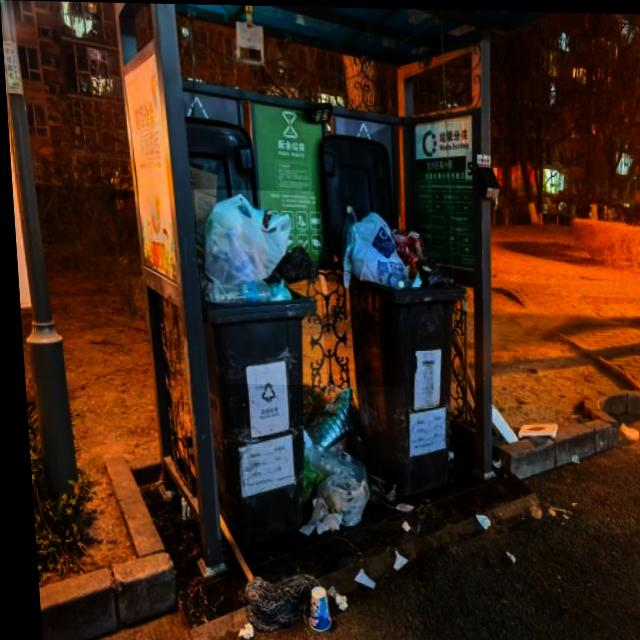garbage: (213, 382, 413, 640), (483, 401, 551, 440)
overflow: (191, 188, 330, 540), (333, 206, 471, 492)
